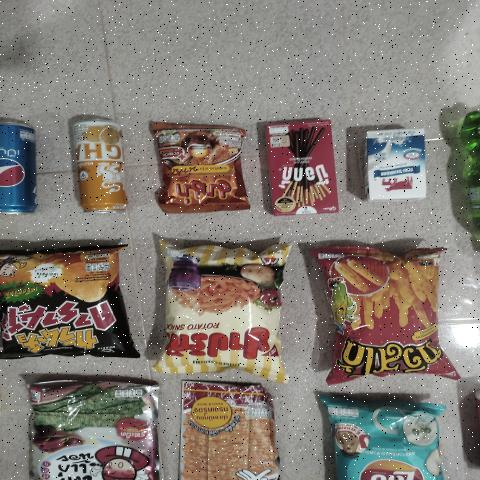bento_red: (182, 387, 270, 480)
karamujo: (0, 248, 132, 351)
lay_blue: (319, 402, 438, 480)
mama: (160, 130, 252, 208)
paprika: (160, 247, 283, 375)
pepsi_blue: (0, 117, 43, 217)
pokki: (267, 124, 340, 214)
singha_yellow: (66, 118, 129, 216)
taokaenoi: (31, 387, 151, 480)
thai_denmark: (364, 128, 428, 202)
twisco: (324, 250, 439, 377)
